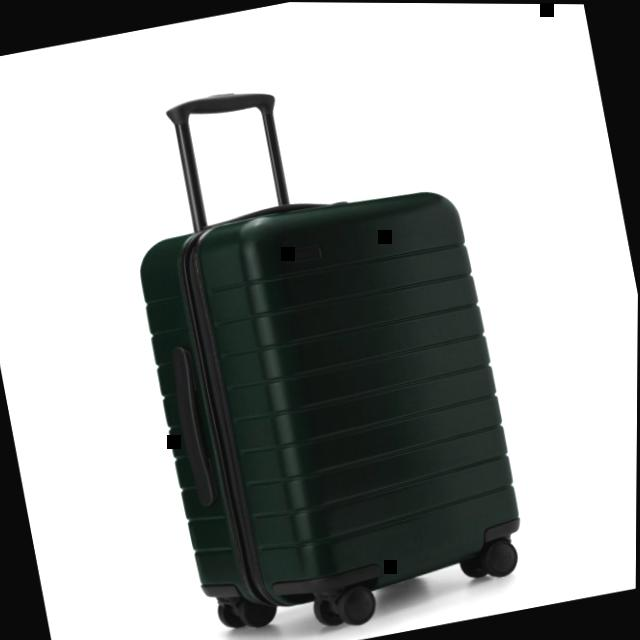luggage: (104, 157, 554, 640)
